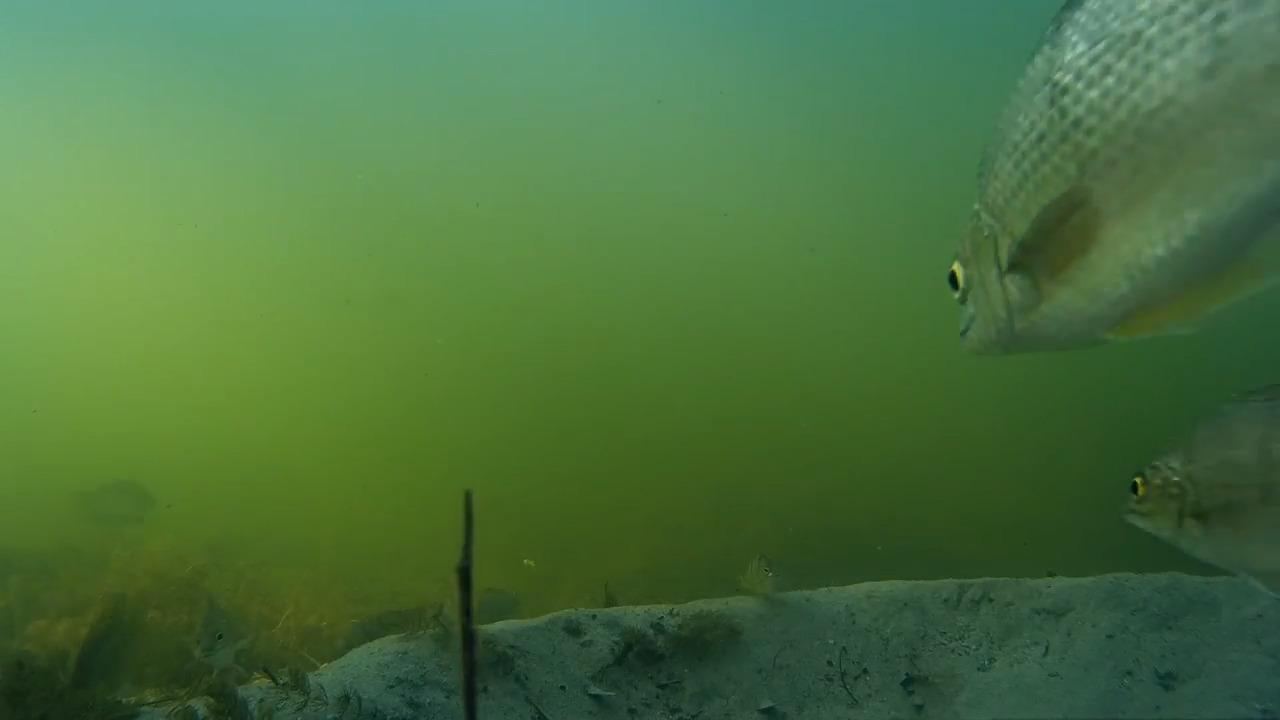Tilapia: (966, 5, 1280, 369), (1114, 380, 1278, 580), (728, 546, 781, 628)
